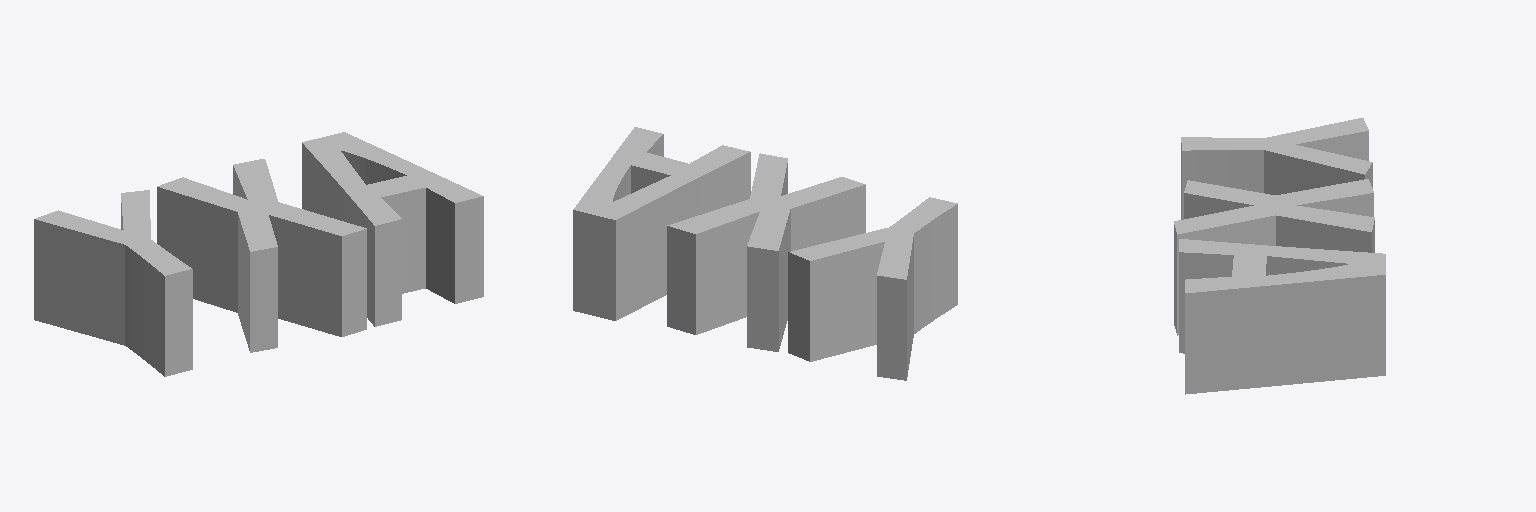
The model's file is name_yxa.obj.
The picture shows the model from 3 angles: view 1: azimuth 30°, elevation 25°; view 2: azimuth 150°, elevation 25°; view 3: azimuth 270°, elevation 25°; orthographic projection.
Parts seen in each view (by area): view 1: Text; view 2: Text; view 3: Text.
Boxes of the visible parts, x1=… form: Text: x1=34, y1=132, x2=483, y2=376; Text: x1=573, y1=127, x2=957, y2=380; Text: x1=1174, y1=118, x2=1385, y2=394.
Bounding box in the file's own units: 1.35 × 0.36 × 0.6876.